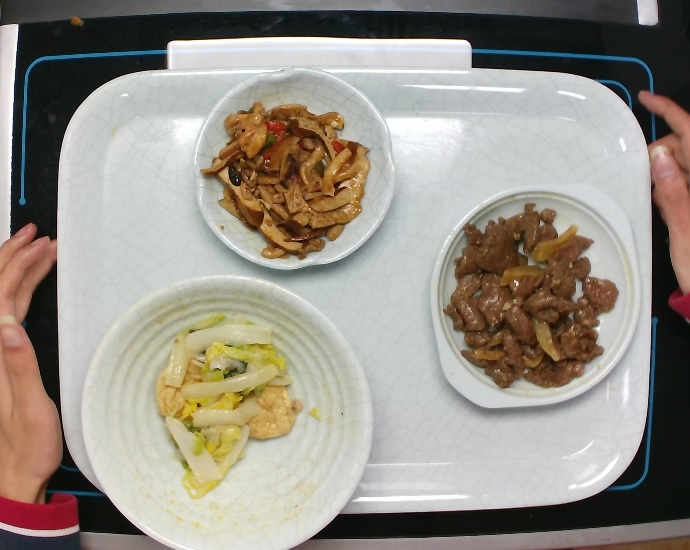JYsf-Ao_Yuan_Wan: (190, 64, 398, 272)
JYsf-Shuang_Er_Pan: (427, 180, 645, 411)
JYsf-Xiao_Tang_Wan: (77, 269, 376, 550)
